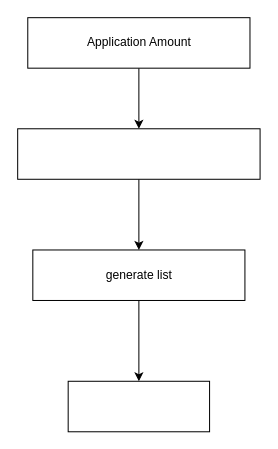
The diagram is 278 pixels wide and 449 high, and some of its shapes have lost their labels. The centre of each missing label's shape, as x and y in pixels:
Amount issued: [138,406]
Information Confirmation and Review: [138,153]
